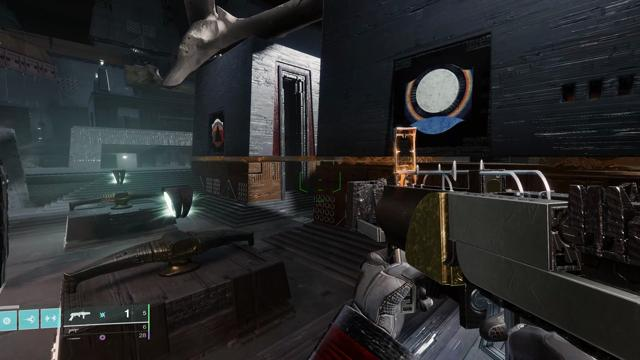pyramid: (212, 119, 224, 148)
traveler: (404, 63, 474, 135)
